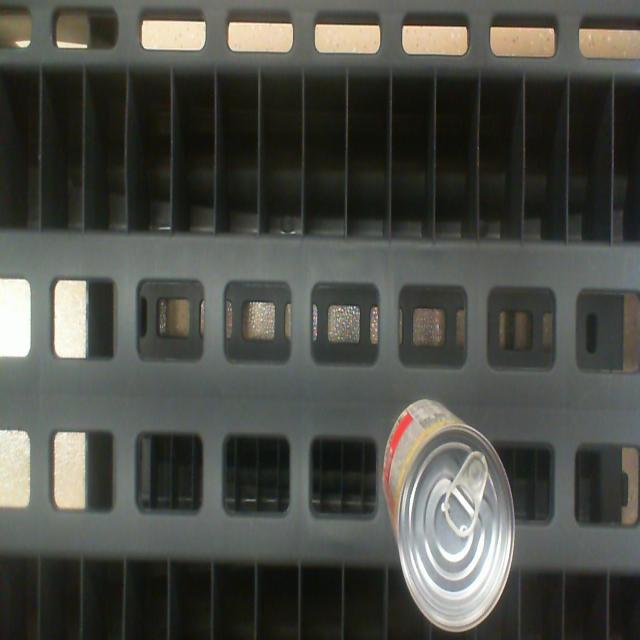can: (398, 425, 513, 628)
